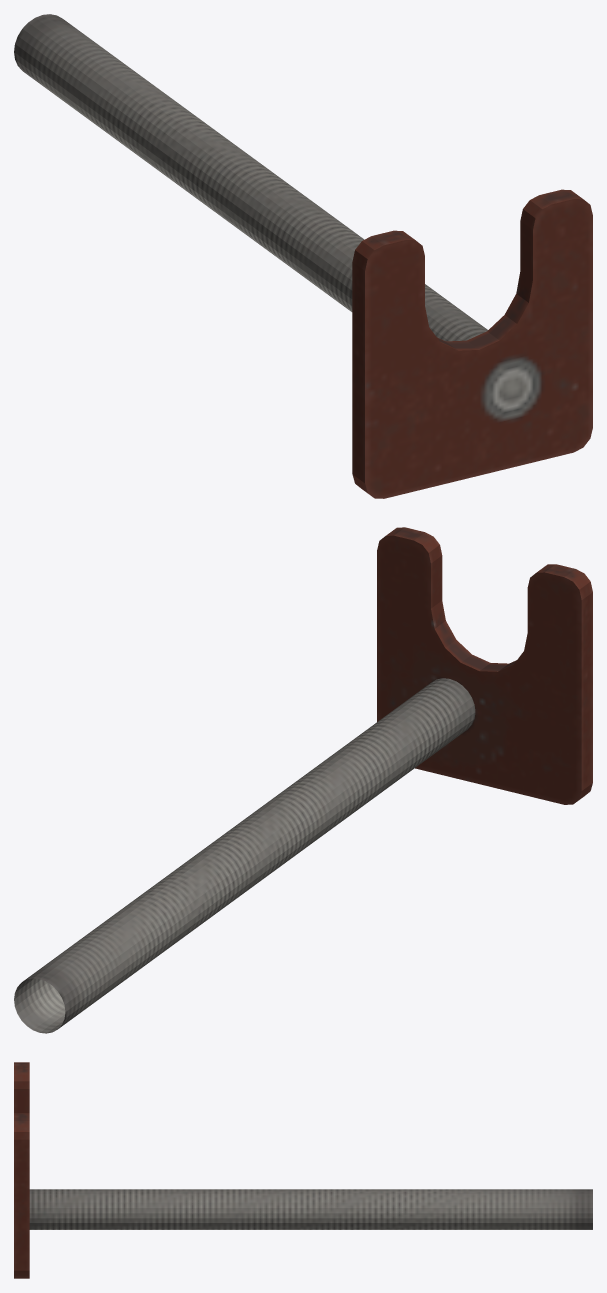
3 renders of one model, top to bottom at view 1: azimuth 30°, elevation 25°; view 2: azimuth 150°, elevation 25°; view 3: azimuth 270°, elevation 25°, orthographic. The views are drawn at different scales.
Visible parts, largest first — view 1: TW_66992b349950f5f4cd06029f_PZ_Import; view 2: TW_66992b349950f5f4cd06029f_PZ_Import; view 3: TW_66992b349950f5f4cd06029f_PZ_Import.
Part boxes in pixels (<box>): TW_66992b349950f5f4cd06029f_PZ_Import: <box>14,14,592,498</box>; TW_66992b349950f5f4cd06029f_PZ_Import: <box>14,527,592,1033</box>; TW_66992b349950f5f4cd06029f_PZ_Import: <box>14,1062,592,1278</box>.
Bounding box in the file's own units: 0.0192 × 0.0686 × 0.0204.
1 material, 1 textured.
